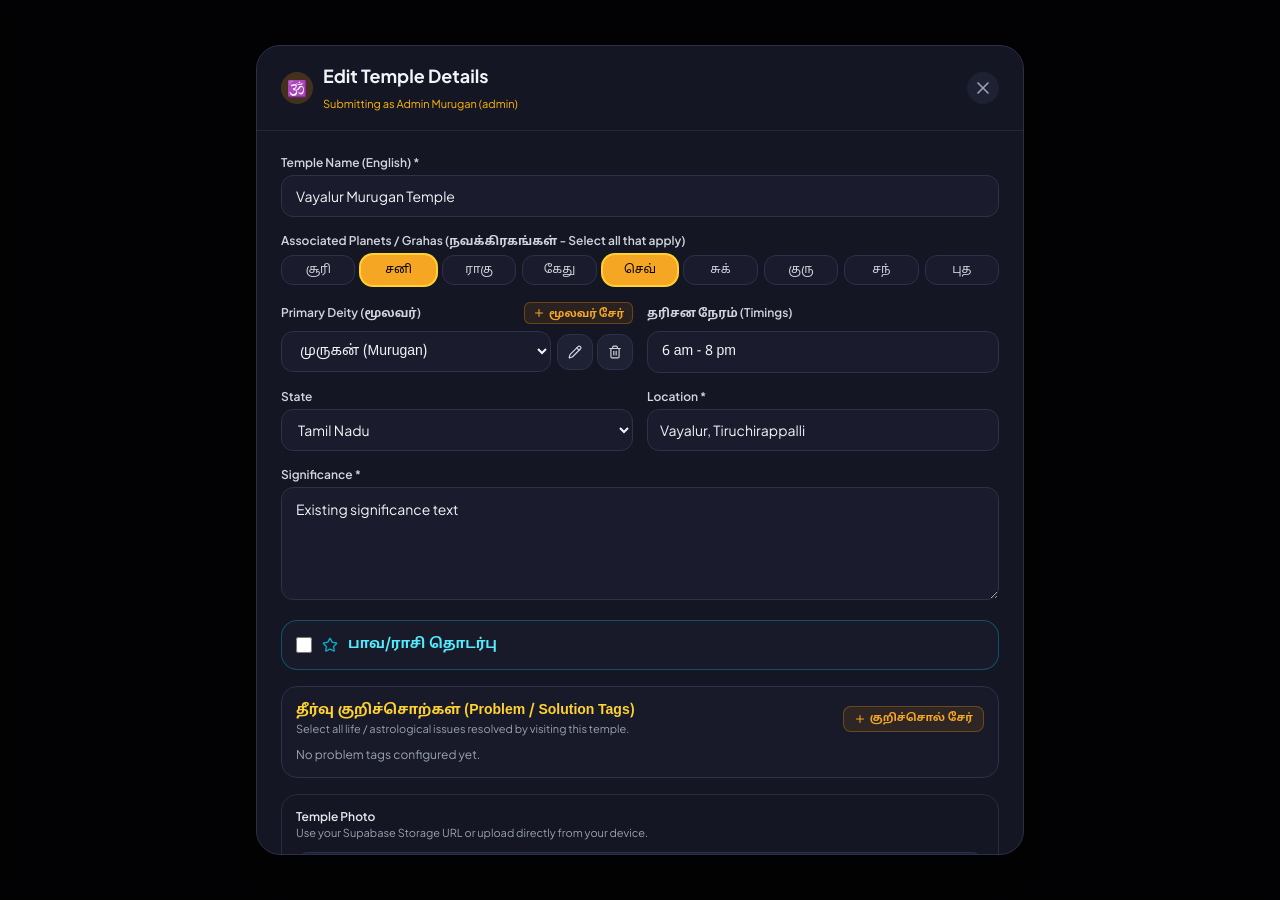
it: Phase 2: Jothidar Paarvai Feature Tests › shows textarea only when Jothidar Paarvai checkbox is checked and validates/saves notes in AddEditTempleModal
Later steps or results of the test are not shown.
Expected: the field with placeholder "பாவ/ராசி தொடர்பு குறிப்புகளை" is not shown
Click the checkbox labelled "பாவ/ராசி தொடர்பு". click: (304, 645)
box: [296,637,312,653]
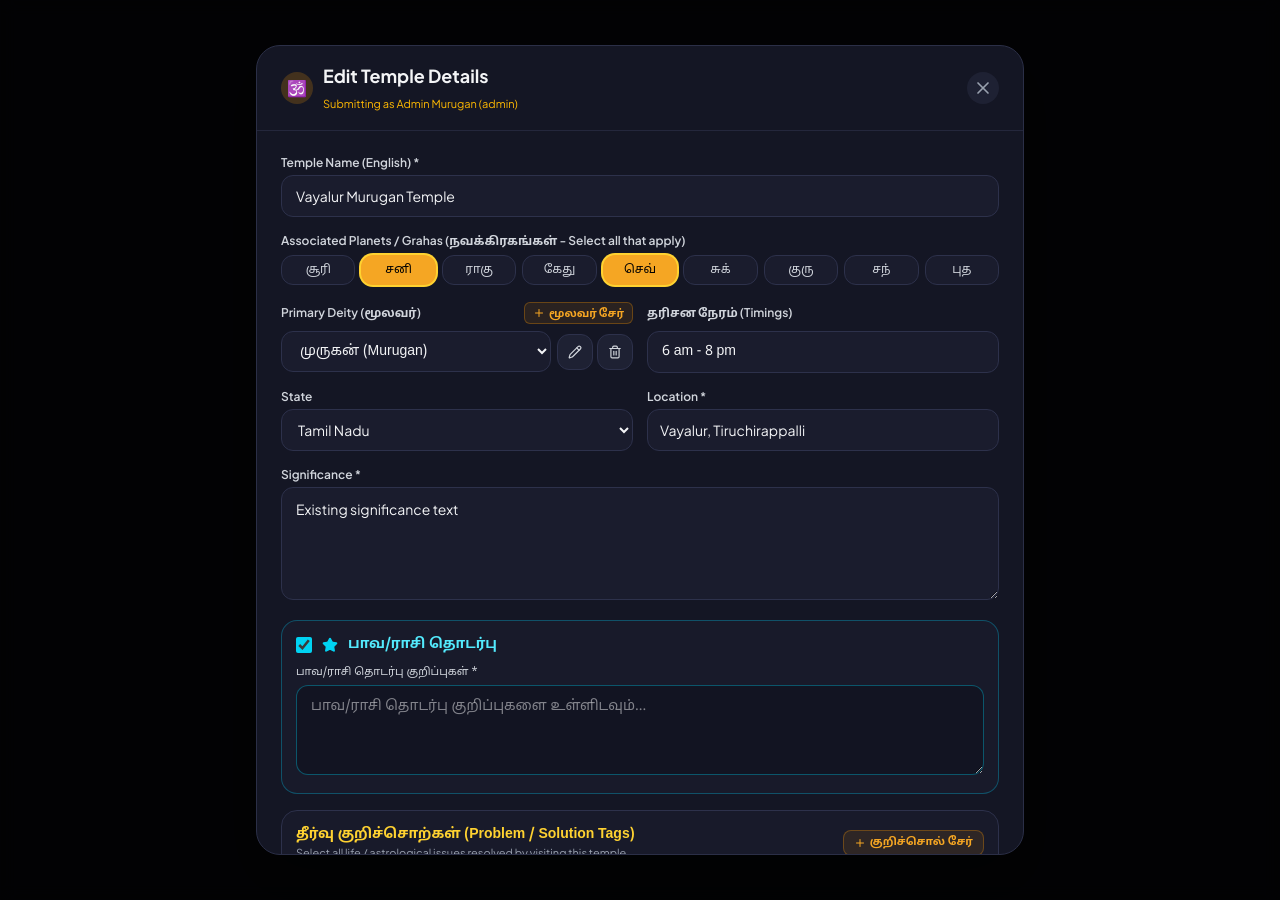
Now the text box with placeholder "பாவ/ராசி தொடர்பு குறிப்புகளை உள்ளிடவும்..." is shown, box [296,685,984,775]
